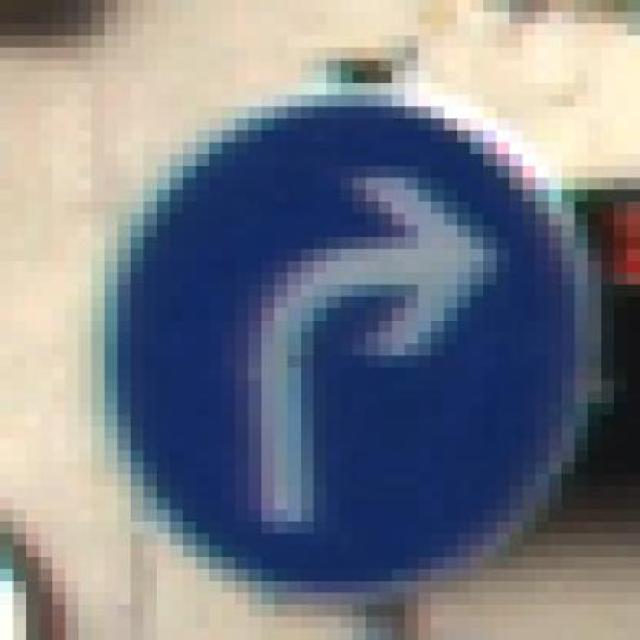Turn right ahead: (78, 94, 600, 606)
